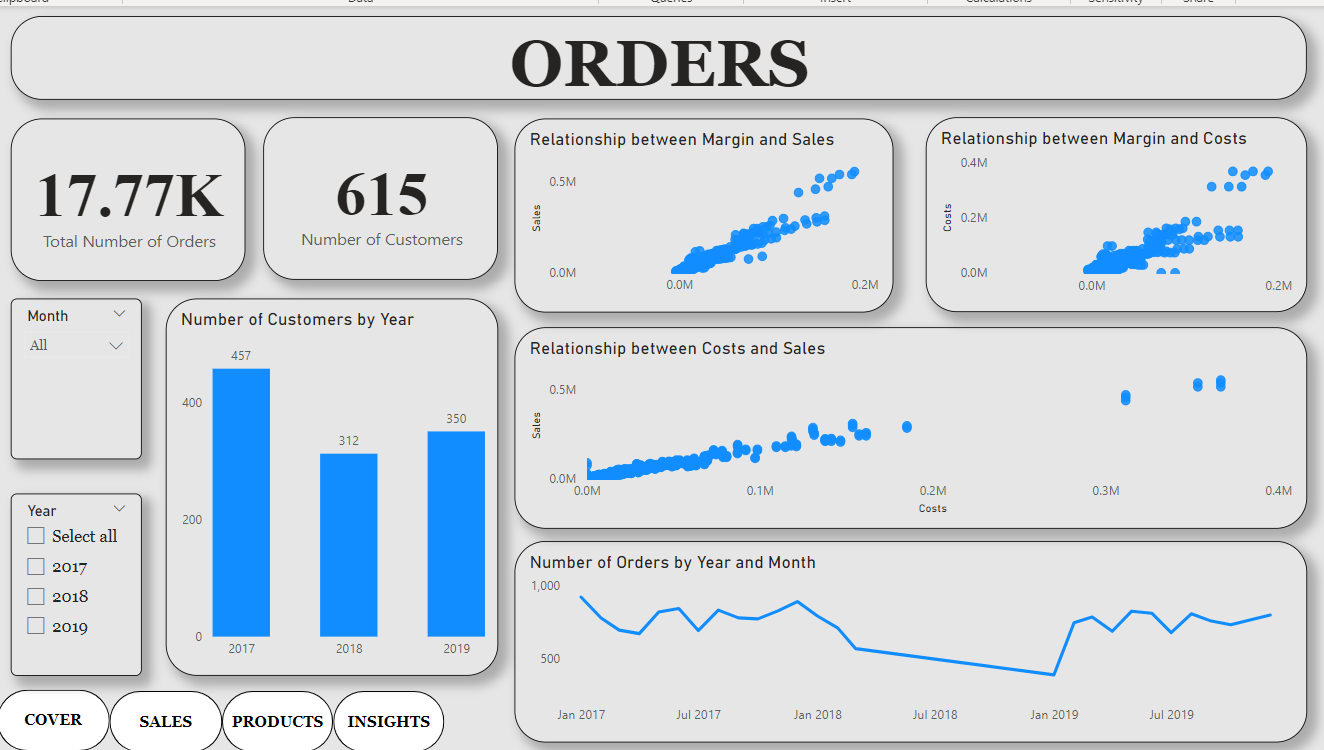

This screenshot's page, from the dashboard's own definition file:
{"tool":"powerbi","page":{"name":"ORDERS","canvas":[1280,720],"ordinal":2},"visuals":[{"type":"textbox","title":"ORDERS","box":[13.3,9.6,1250.7,80.8],"z":0},{"type":"shape","box":[0,659.7,108.5,59.1],"z":1000},{"type":"shape","box":[108.5,660.9,108.5,59.1],"z":2000},{"type":"shape","box":[217.1,660.9,107.3,59.1],"z":3000},{"type":"shape","box":[324.4,660.9,107.3,59.1],"z":4000},{"type":"slicer","fields":{"Values":["Amazon_dataset.Year"]},"box":[13.3,470.4,126.6,176.1],"z":5000},{"type":"slicer","fields":{"Values":["Amazon_dataset.Month"]},"box":[13.3,282.2,126.6,155.6],"z":6000},{"type":"card","fields":{"Values":["Count(Amazon_dataset.Order Number)"]},"box":[13.3,108.5,226.7,156.8],"z":7000},{"type":"card","fields":{"Values":["Count(Amazon_dataset.CustKey)"]},"box":[256.9,107.3,226.7,156.8],"z":8000},{"type":"columnChart","fields":{"Category":["Calendar.Date.Variation.Date Hierarchy.Year","Calendar.Date.Variation.Date Hierarchy.Month"],"Y":["Count(Amazon_dataset.CustKey)"]},"box":[162.8,282.2,320.8,364.2],"z":9000},{"type":"lineChart","fields":{"Y":["Count(Amazon_dataset.Order Number)"],"Category":["Amazon_dataset.Month_Year.Variation.Date Hierarchy.Year","Amazon_dataset.Month_Year.Variation.Date Hierarchy.Month"]},"box":[499.3,516.2,764.6,194.2],"z":10000},{"type":"scatterChart","title":"Relationship between Costs and Sales","fields":{"Y":["Amazon_dataset.Sales Amount"],"X":["Amazon_dataset.Sales Cost Amount"]},"box":[499.3,309.9,764.6,194.2],"z":11000},{"type":"scatterChart","title":"Relationship between Margin and Sales","fields":{"X":["Amazon_dataset.Sales Margin Amount"],"Y":["Amazon_dataset.Sales Amount"]},"box":[499.3,108.5,365.4,186.9],"z":12000},{"type":"scatterChart","title":"Relationship between Margin and Costs","fields":{"X":["Amazon_dataset.Sales Margin Amount"],"Y":["Amazon_dataset.Sales Cost Amount"]},"box":[896.1,107.3,367.8,188.1],"z":13000}]}

Visuals, with their boxes on the page's 1280x720 design canvas (x1, y1, x2, y2). These are canvas units, not pixel positions in the 1324x750 screenshot, which may show the page scaled, cropped or inside an application window:
"ORDERS" textbox: [left=13, top=10, right=1264, bottom=90]
shape: [left=0, top=660, right=108, bottom=719]
shape: [left=108, top=661, right=217, bottom=720]
shape: [left=217, top=661, right=324, bottom=720]
shape: [left=324, top=661, right=432, bottom=720]
slicer - Amazon_dataset.Year: [left=13, top=470, right=140, bottom=646]
slicer - Amazon_dataset.Month: [left=13, top=282, right=140, bottom=438]
card - Count(Amazon_dataset.Order Number): [left=13, top=108, right=240, bottom=265]
card - Count(Amazon_dataset.CustKey): [left=257, top=107, right=484, bottom=264]
columnChart - Calendar.Date.Variation.Date Hierarchy.Year x Calendar.Date.Variation.Date Hierarchy.Month: [left=163, top=282, right=484, bottom=646]
lineChart - Count(Amazon_dataset.Order Number) x Amazon_dataset.Month_Year.Variation.Date Hierarchy.Year: [left=499, top=516, right=1264, bottom=710]
"Relationship between Costs and Sales" scatterChart: [left=499, top=310, right=1264, bottom=504]
"Relationship between Margin and Sales" scatterChart: [left=499, top=108, right=865, bottom=295]
"Relationship between Margin and Costs" scatterChart: [left=896, top=107, right=1264, bottom=295]
